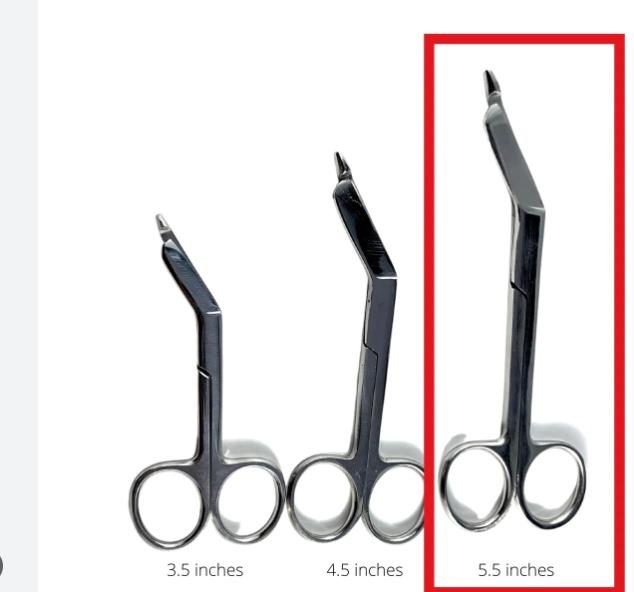Bandage Sciccors: (436, 61, 601, 539), (115, 200, 286, 555), (282, 139, 426, 550)
